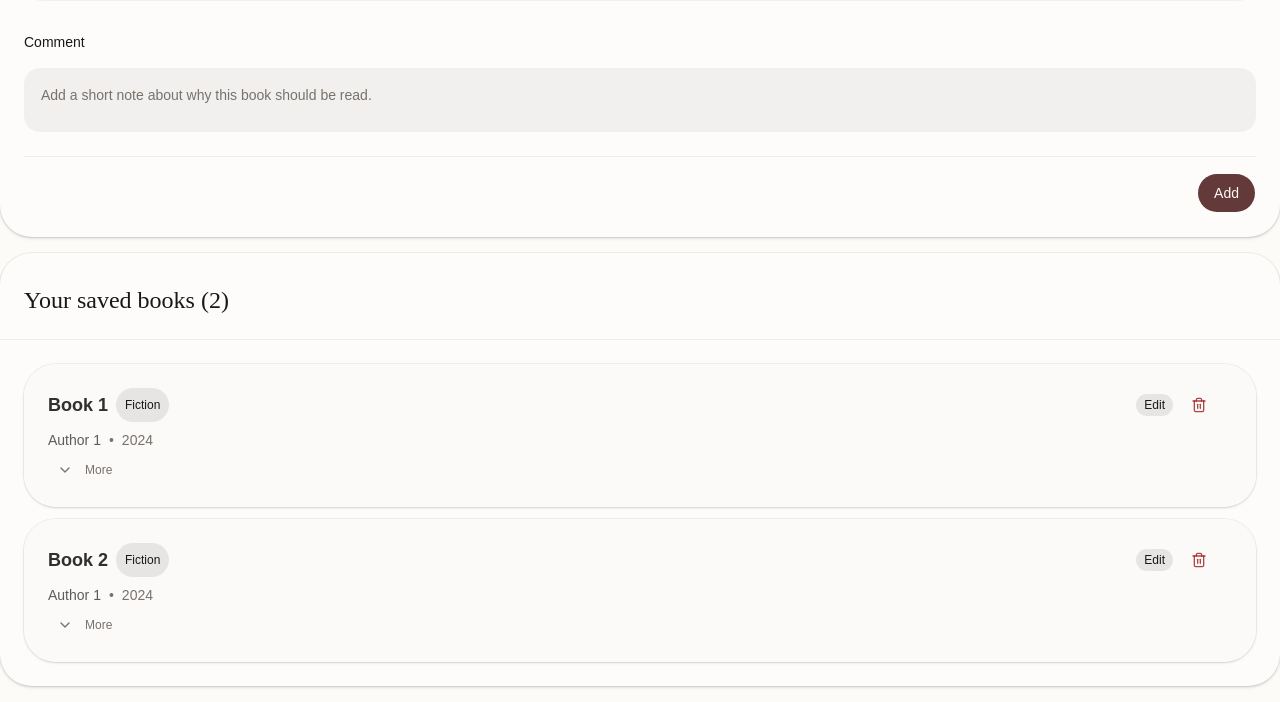
BooksPage › book deletion › deletes book via service and removes from display when confirmation is accepted
(page scrolled)
Expected: the heading "Book 1" is shown, [48, 391, 108, 419]
Expected: the heading "Book 2" is shown, [48, 546, 108, 574]
Click the button titled "Delete book" in the row of "Book 1" at (1199, 405), box [1182, 393, 1216, 417]
(page scrolled)
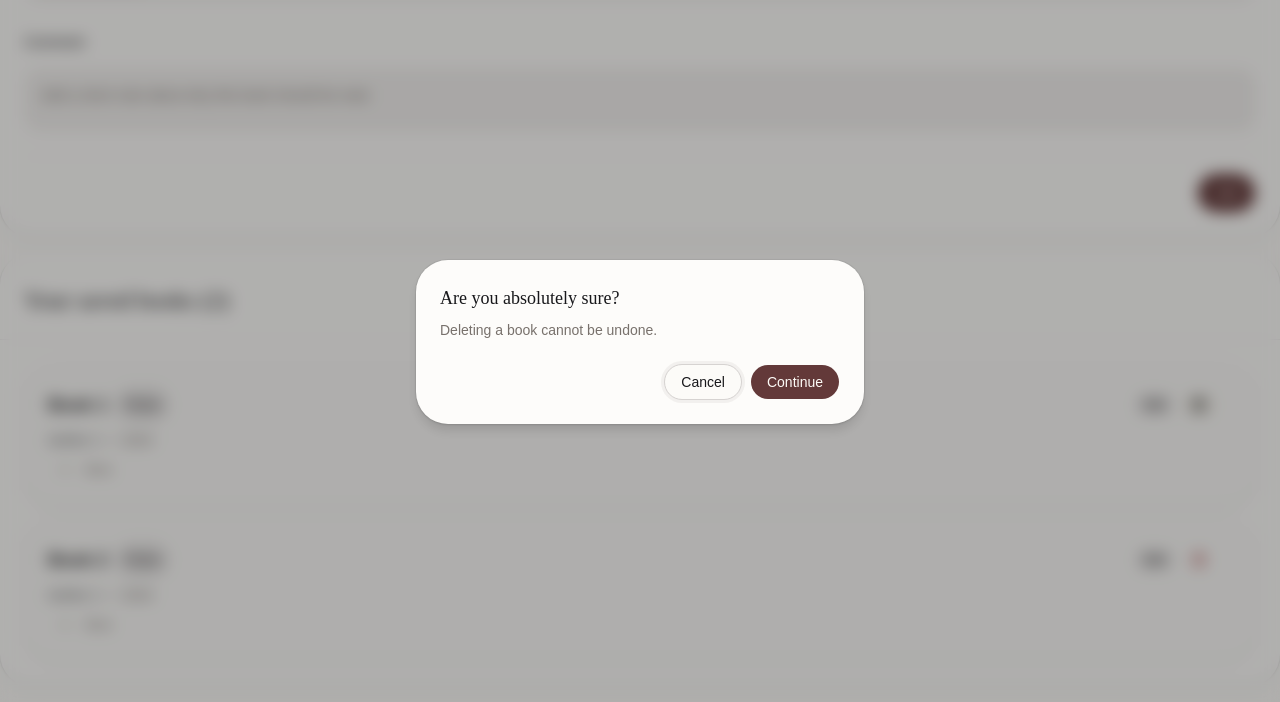
Click the button titled "Continue" at (795, 382), box [750, 364, 840, 400]
(page scrolled)
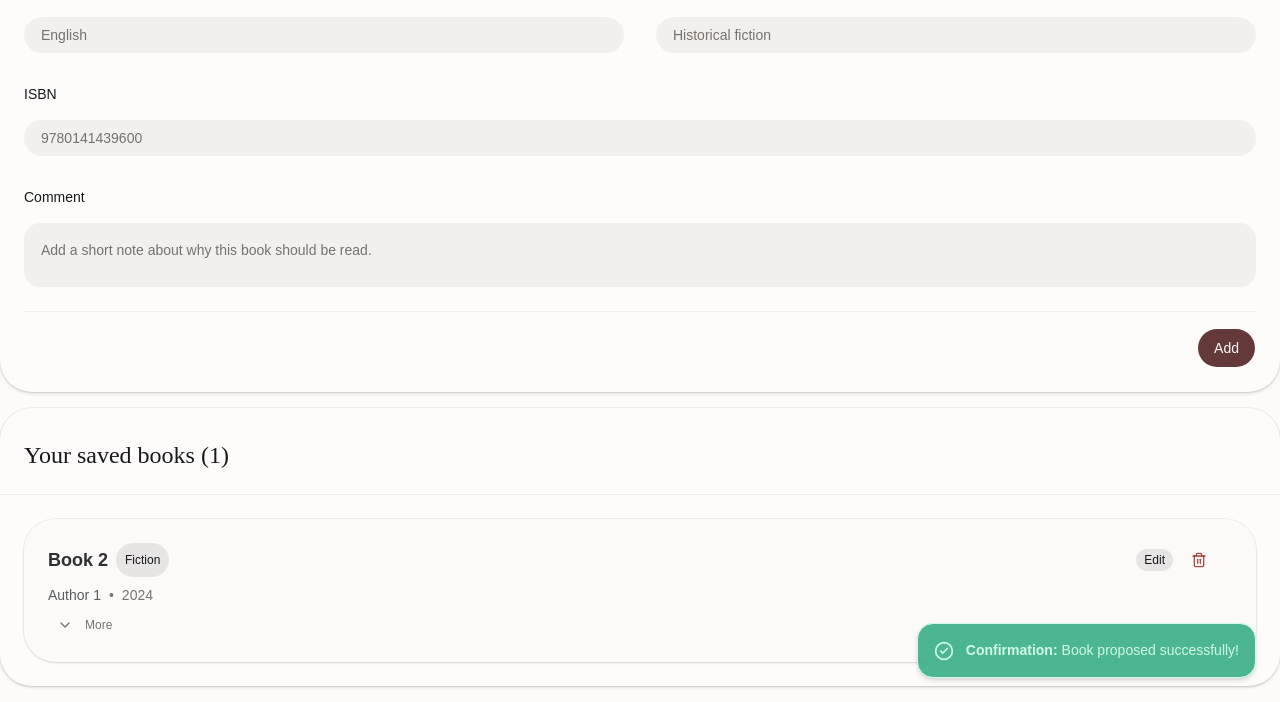
Expected: the heading "Book 1" is gone
